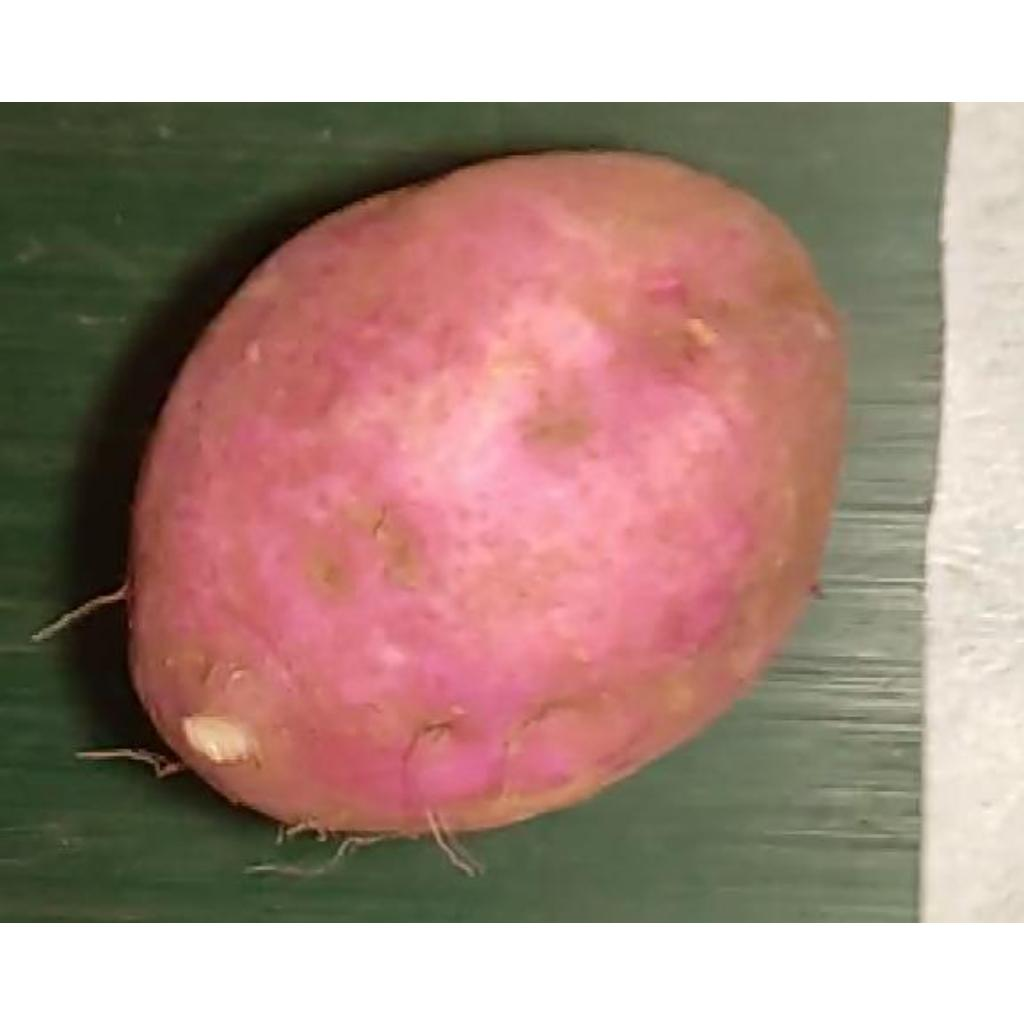Sweet Potato: (123, 149, 848, 842)
